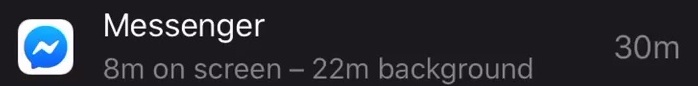name: (97, 4, 272, 45)
time: (309, 50, 376, 86), (102, 51, 147, 86)
